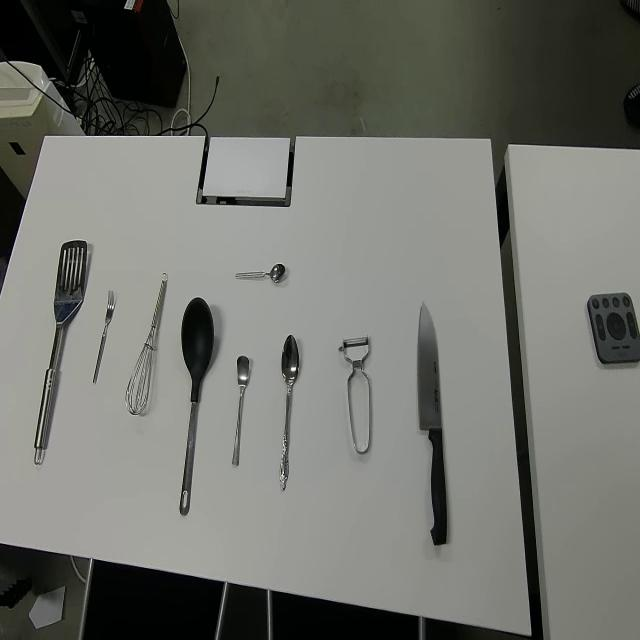Desert-Spoon: (278, 331, 300, 493)
Dinner-Fork: (91, 288, 115, 387)
Kitchen-Knife: (416, 299, 449, 548)
Peeler: (338, 333, 373, 455)
Serving-Spoon: (34, 238, 88, 472), (178, 294, 214, 518)
Tea-Spoon: (232, 355, 250, 468), (232, 259, 285, 283)
Whisk: (125, 272, 168, 416)
